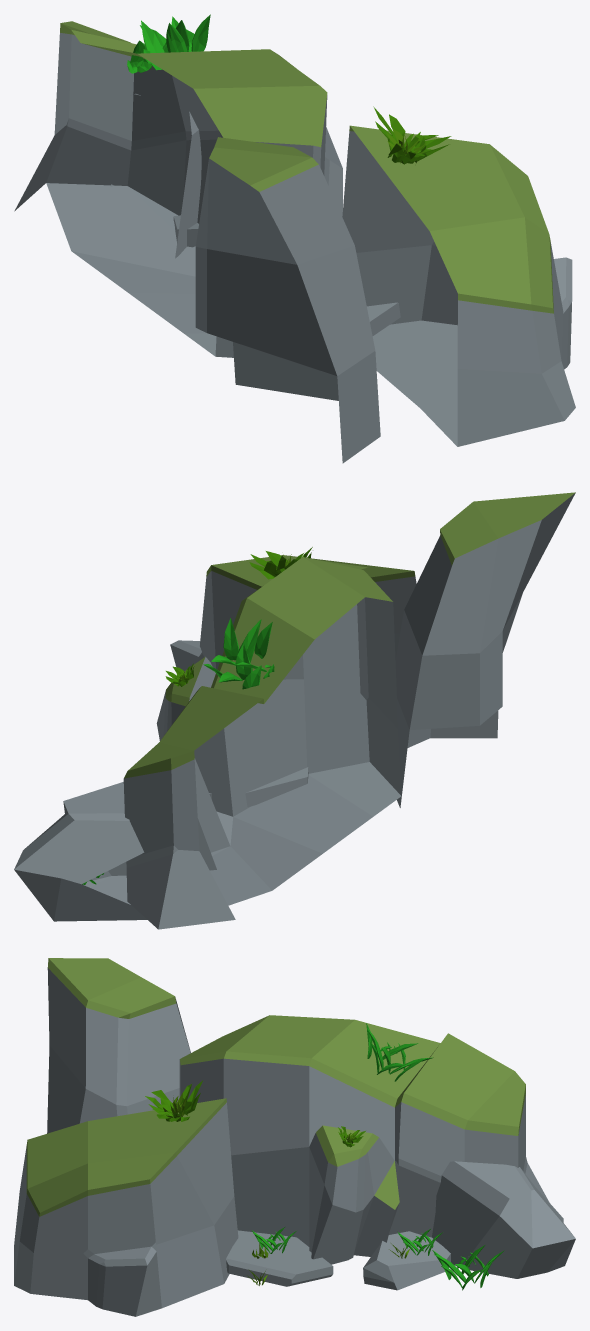
The model's file is Rocher complet.fbx.
The picture shows the model from 3 angles, top to bottom: view 1: azimuth 30°, elevation 25°; view 2: azimuth 150°, elevation 25°; view 3: azimuth 270°, elevation 25°; orthographic projection. The views are drawn at different scales.
Parts seen in each view (by area): view 1: Cube.027, Cube.023, Cube.022; view 2: Cube.027, Cube.023, Cube.022; view 3: Cube.027, Cube.022, Cube.023, Cube.024.
Boxes of the visible parts, x1=… form: Cube.027: x1=14, y1=21, x2=575, y2=463; Cube.023: x1=127, y1=14, x2=210, y2=73; Cube.022: x1=373, y1=106, x2=451, y2=164; Cube.027: x1=14, y1=492, x2=575, y2=929; Cube.023: x1=203, y1=618, x2=274, y2=689; Cube.022: x1=249, y1=547, x2=312, y2=579; Cube.027: x1=14, y1=958, x2=575, y2=1316; Cube.022: x1=145, y1=1080, x2=202, y2=1121; Cube.023: x1=366, y1=1023, x2=433, y2=1081; Cube.024: x1=432, y1=1245, x2=504, y2=1290.
Bounding box in the file's own units: 1014 × 743 × 1673.
